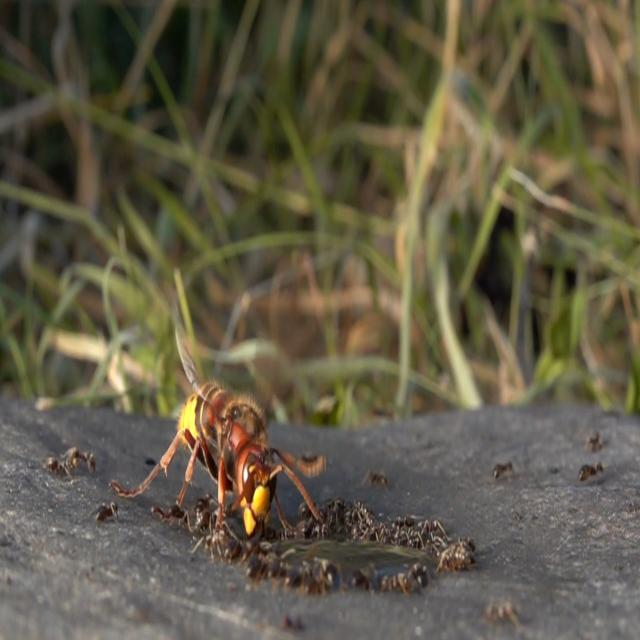Hornets: (118, 274, 326, 558)
